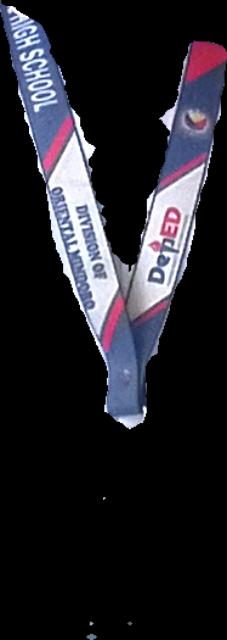id lace: (0, 0, 226, 429)
